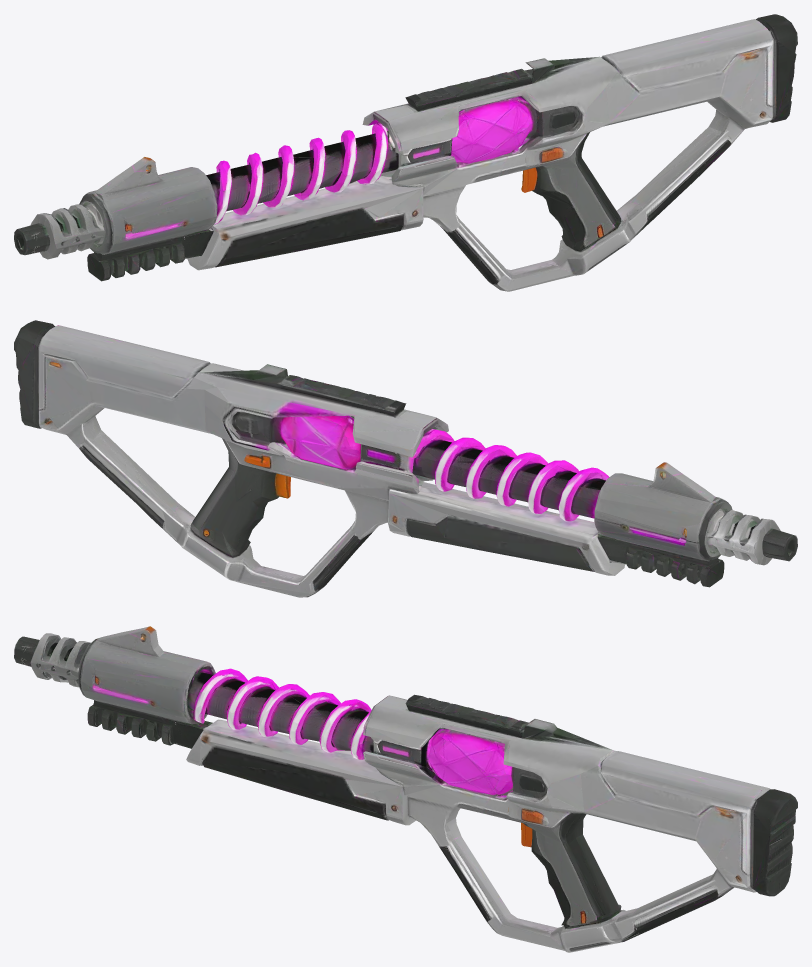
File: plasma_rifle.glb
3 renders of one model, top to bottom at view 1: azimuth 30°, elevation 25°; view 2: azimuth 150°, elevation 25°; view 3: azimuth 330°, elevation 25°, orthographic.
Visible parts, largest first — view 1: Mesh_0; view 2: Mesh_0; view 3: Mesh_0.
Part boxes in pixels (box(x1,y1,x2,y2)): Mesh_0: box(14, 14, 797, 291); Mesh_0: box(14, 320, 797, 597); Mesh_0: box(14, 626, 797, 952).
Size of the model in its own units: 1.9 by 0.5151 by 0.1611.
1 material, 1 textured.
